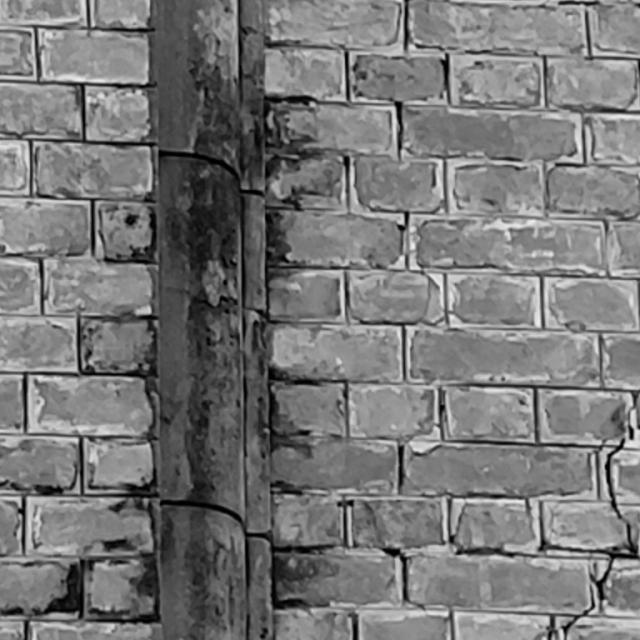crack: (549, 390, 639, 640)
